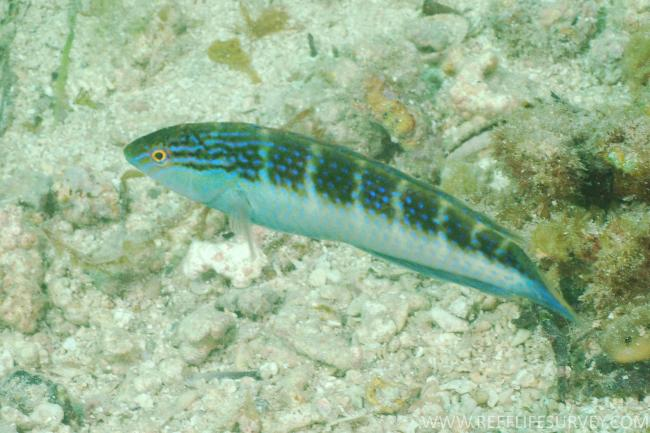fish: (123, 121, 581, 325)
